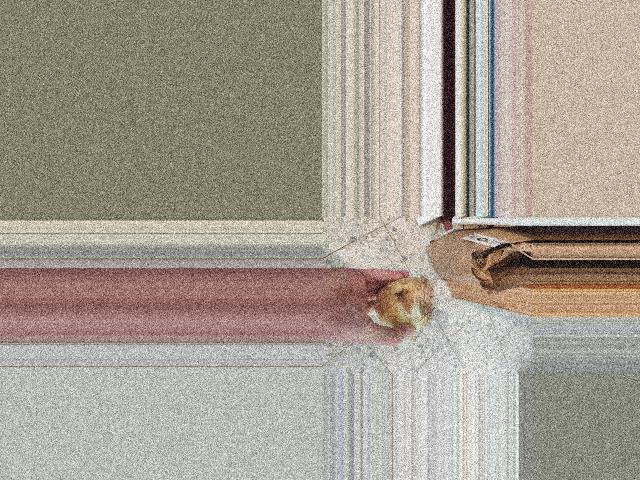onion: (368, 276, 435, 341)
